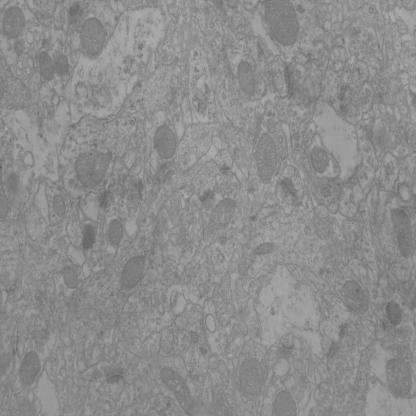mitochondria: (159, 366, 197, 414), (264, 0, 300, 47), (74, 147, 113, 190), (390, 207, 414, 259), (255, 132, 278, 182), (386, 358, 412, 400), (340, 280, 370, 315), (120, 252, 147, 290), (80, 18, 106, 56), (238, 358, 264, 395), (153, 124, 178, 160), (2, 5, 26, 40), (20, 350, 41, 388), (237, 60, 256, 97), (215, 198, 237, 227), (274, 389, 297, 416), (310, 147, 330, 174), (38, 51, 54, 82), (107, 218, 124, 246), (387, 300, 402, 327), (53, 52, 69, 76), (64, 267, 80, 290), (52, 194, 66, 218), (254, 241, 278, 255), (190, 331, 199, 344)
